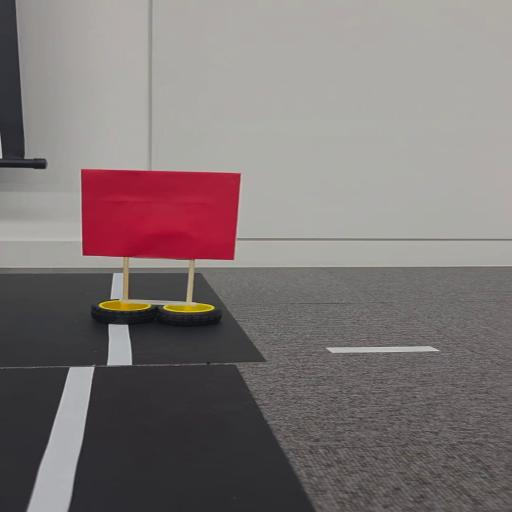Sign_A: (71, 166, 249, 334)
